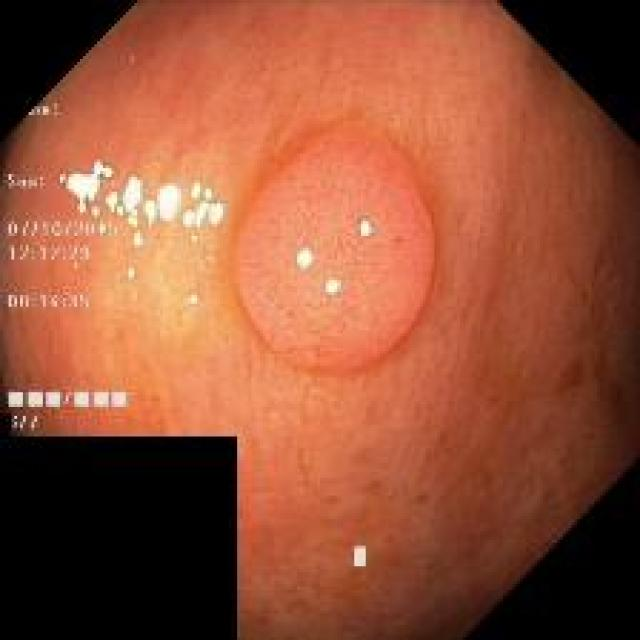Polyps: (235, 133, 434, 370)
